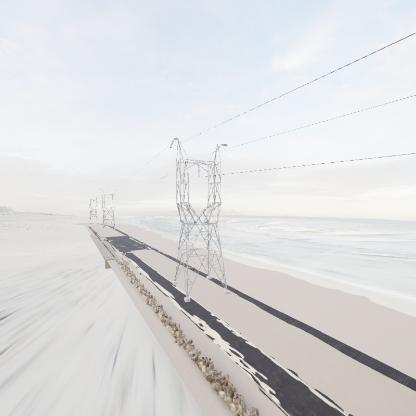tower: (167, 138, 233, 304)
